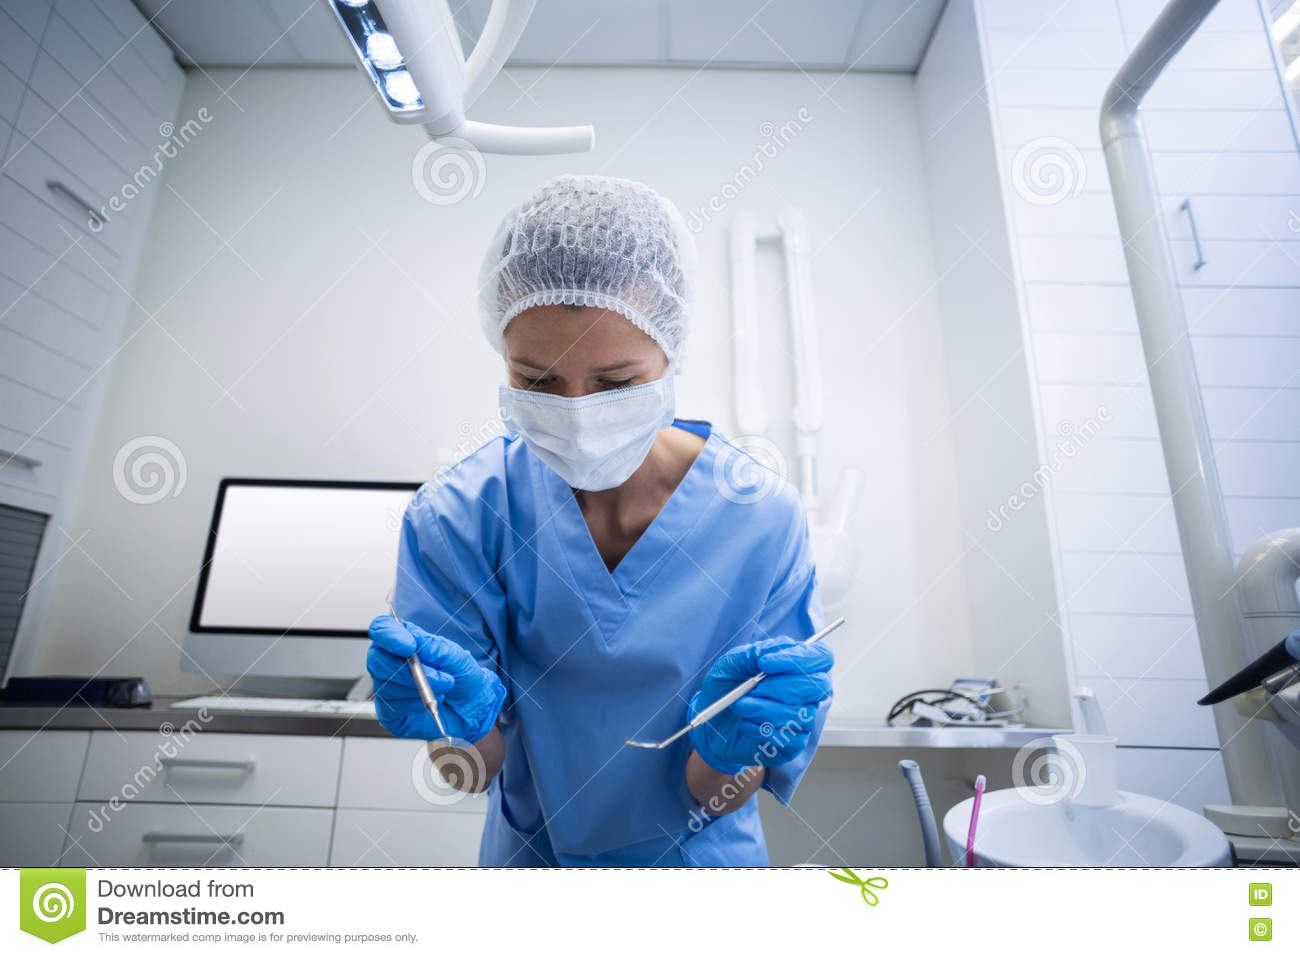mask: (483, 371, 703, 496)
